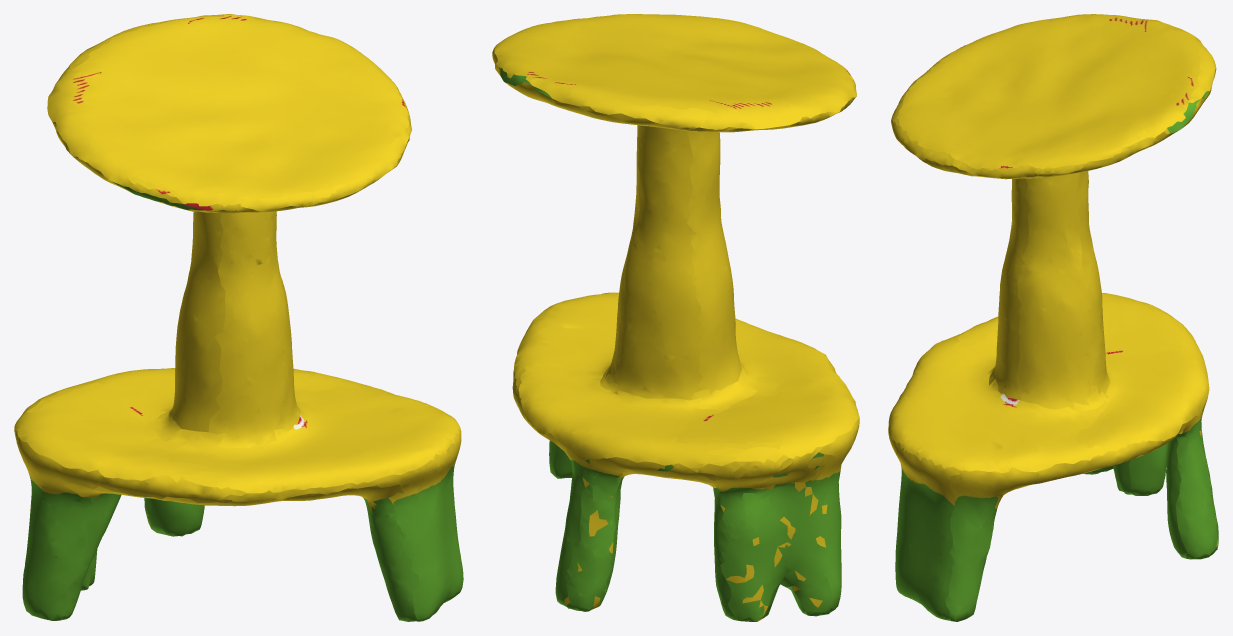
Rendered from watchtopper.glb.
3 renders of one model, left to right at view 1: azimuth 30°, elevation 25°; view 2: azimuth 150°, elevation 25°; view 3: azimuth 270°, elevation 25°, orthographic. The views are drawn at different scales.
Parts seen in each view (by area): view 1: geometry_0; view 2: geometry_0; view 3: geometry_0.
Part boxes in pixels (bbox=[...]): geometry_0: bbox=[14, 14, 463, 621]; geometry_0: bbox=[492, 14, 859, 621]; geometry_0: bbox=[888, 14, 1218, 621].
Size of the model in its own units: 0.6995 by 0.9285 by 0.5824.
Materials: 1 (1 with a texture image).
